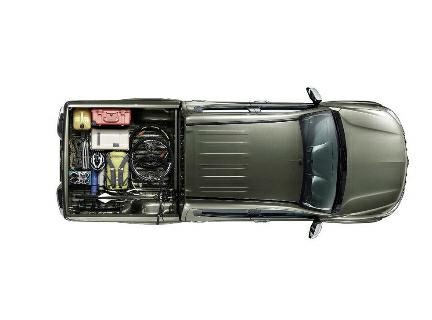三菱-L200: (54, 89, 408, 241)
